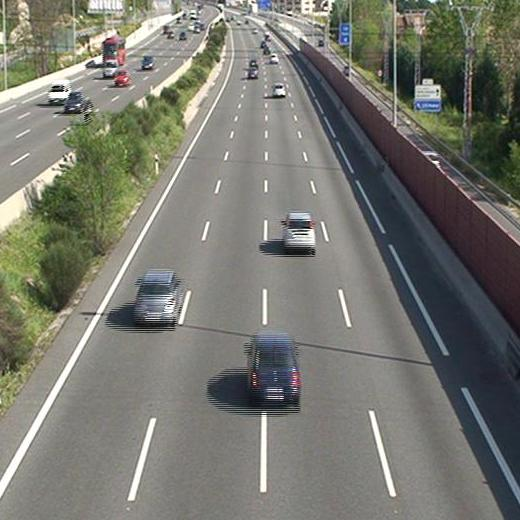car: (247, 336, 300, 406), (134, 272, 182, 325), (282, 213, 316, 251), (271, 82, 284, 96), (247, 68, 258, 79), (269, 54, 278, 63), (249, 60, 257, 68)
